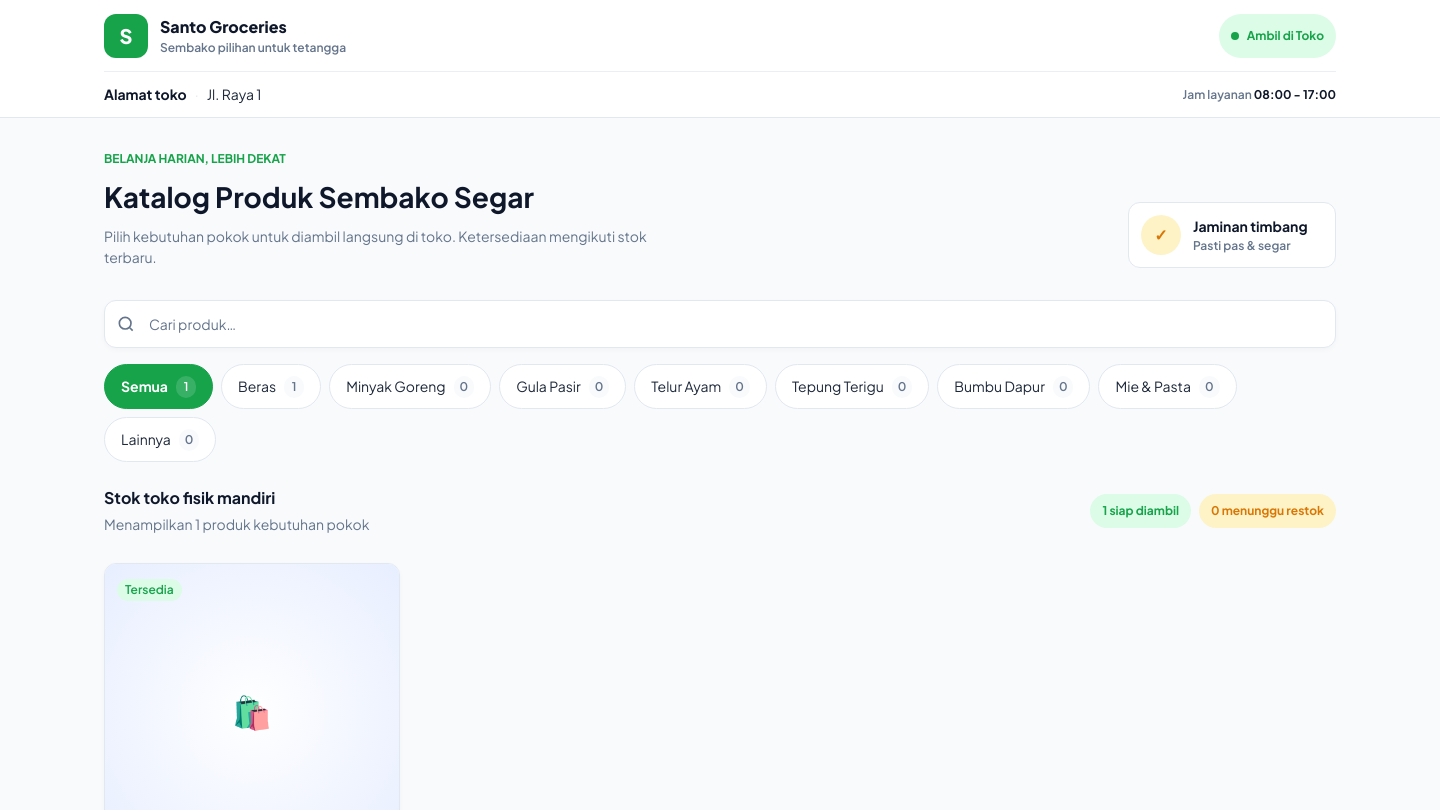
Test: CatalogPage › debounces search input (300ms) and shows empty state
This screenshot has width=1440, height=810.
In the search field with test id "search-input": (720, 324) left=104, top=300, right=1336, bottom=348, type "xyz"
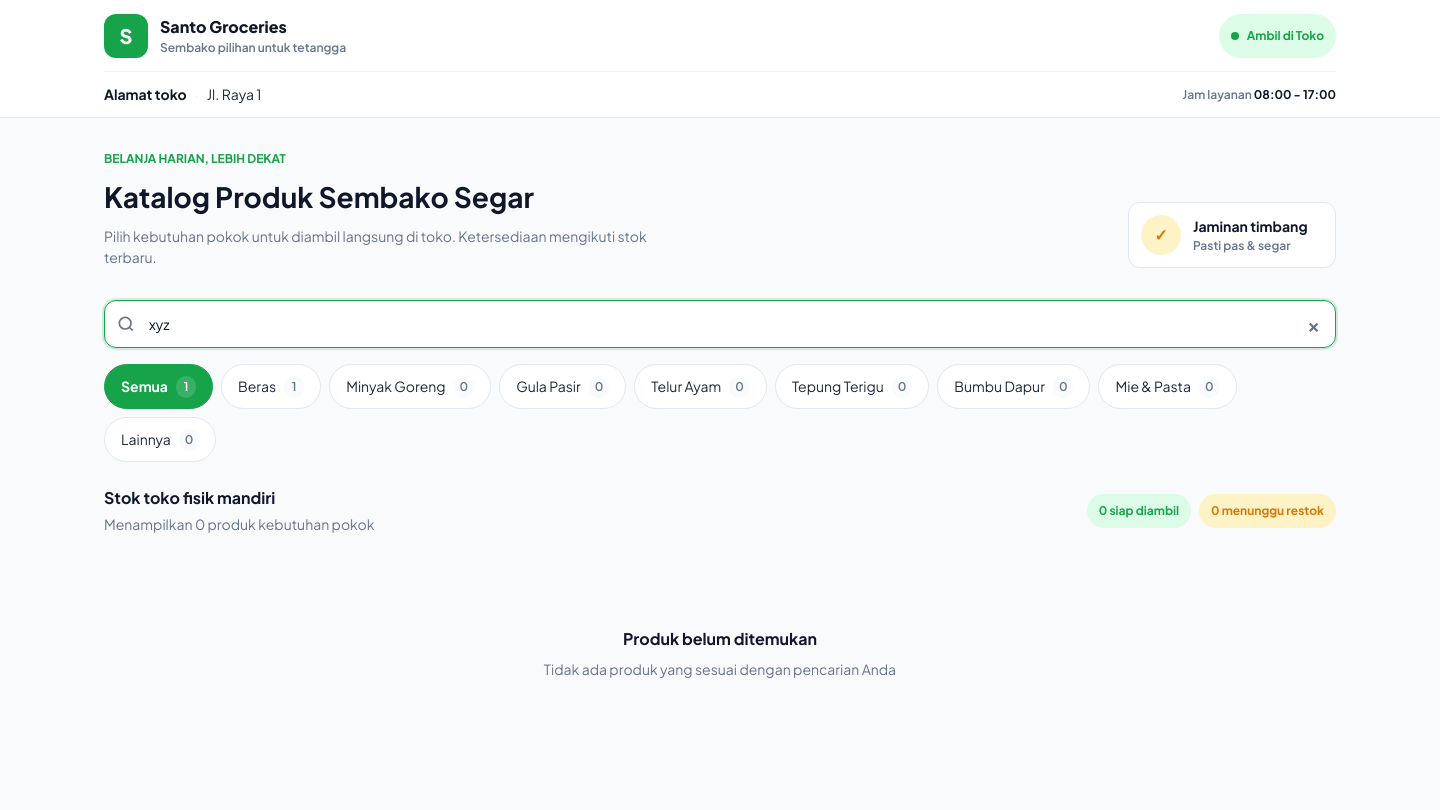
Expected: the text "Tidak ada produk yang sesuai dengan pencarian Anda" is shown, left=544, top=660, right=896, bottom=678
